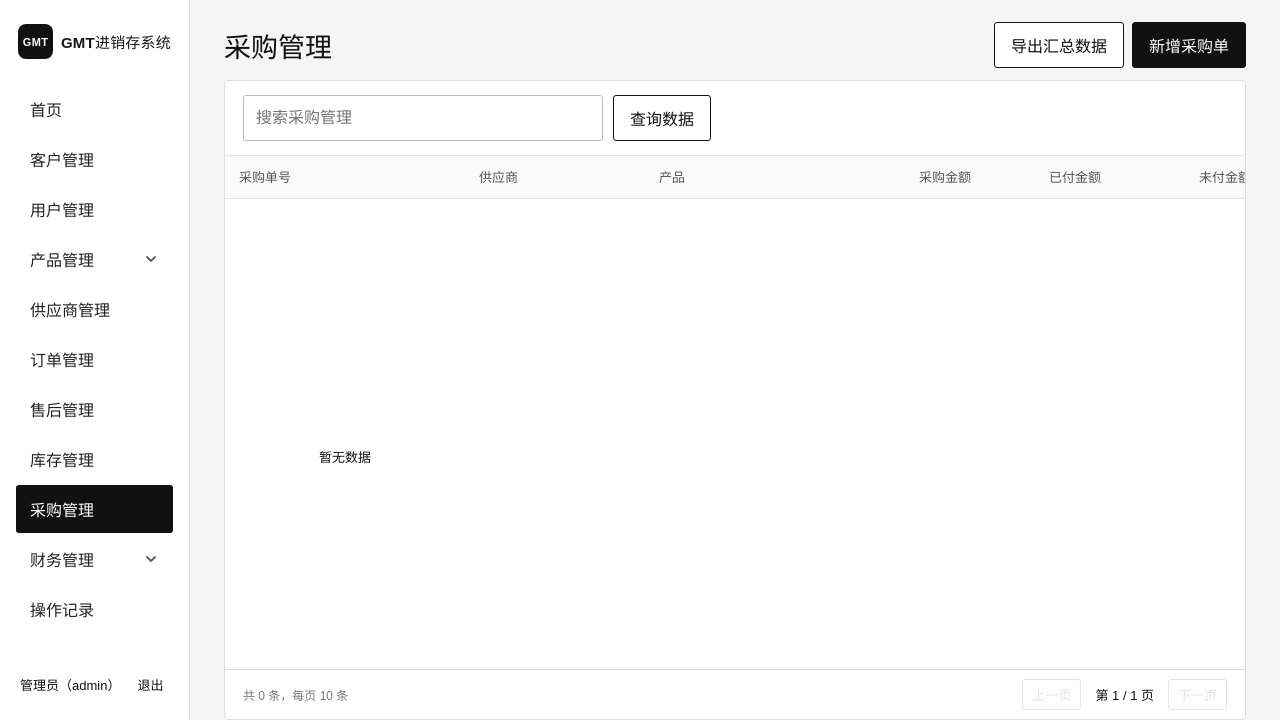
Test case: 连续导航和浏览器地址状态 › 新增采购单打开草稿表单，不弹出浏览器确认框
This screenshot has width=1280, height=720.
Click the button with test id "primary-action": [1189, 45] box [1132, 22, 1246, 68]
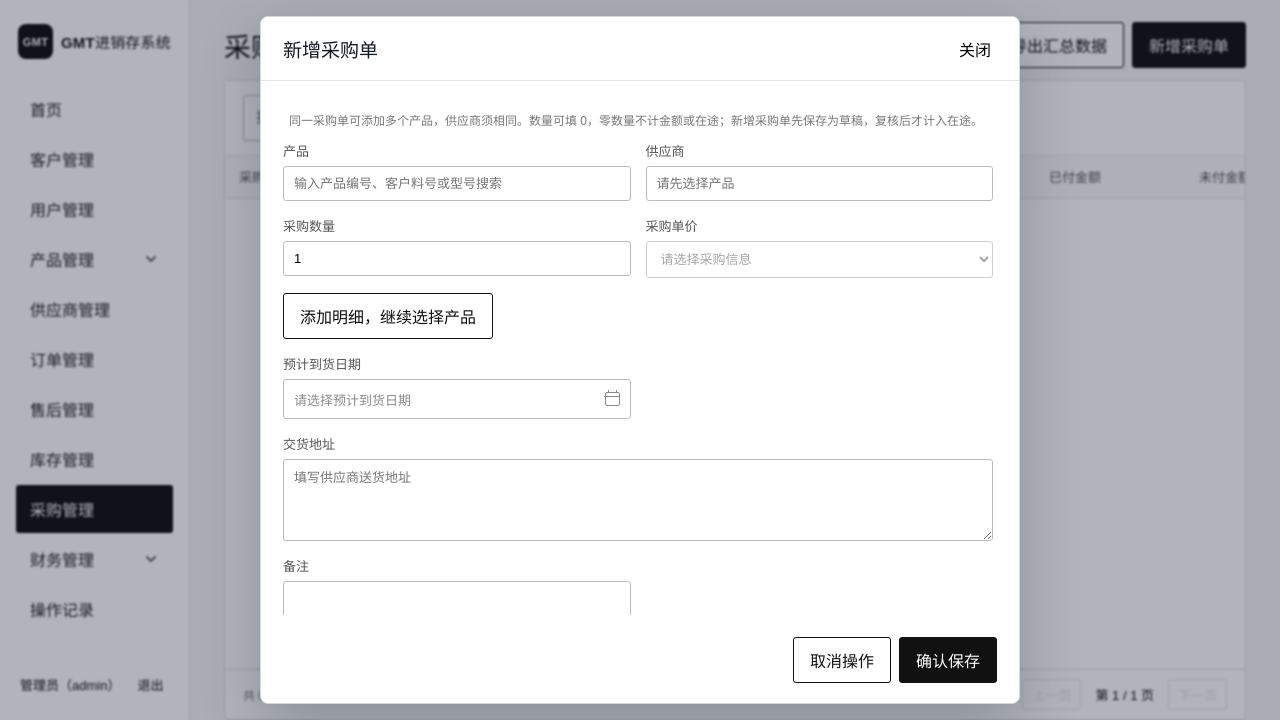
Result: the dialog shows "新增采购单" at [283, 40, 378, 61]
